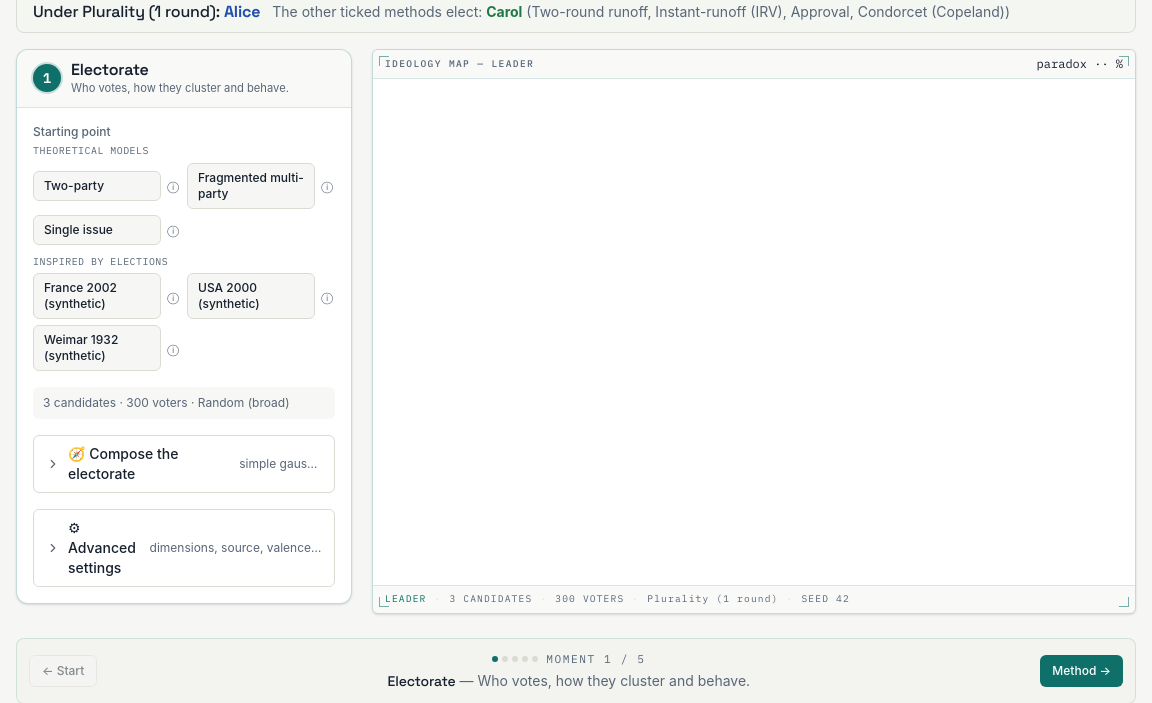
Test: PlaygroundPage (P0 shell) › switching to a composed electorate persists, reveals blocs and a colour legend
(page scrolled)
Step 1. Click the button with test id "module-electorate-toggle" → x=123, y=454, box [34,436,334,492]
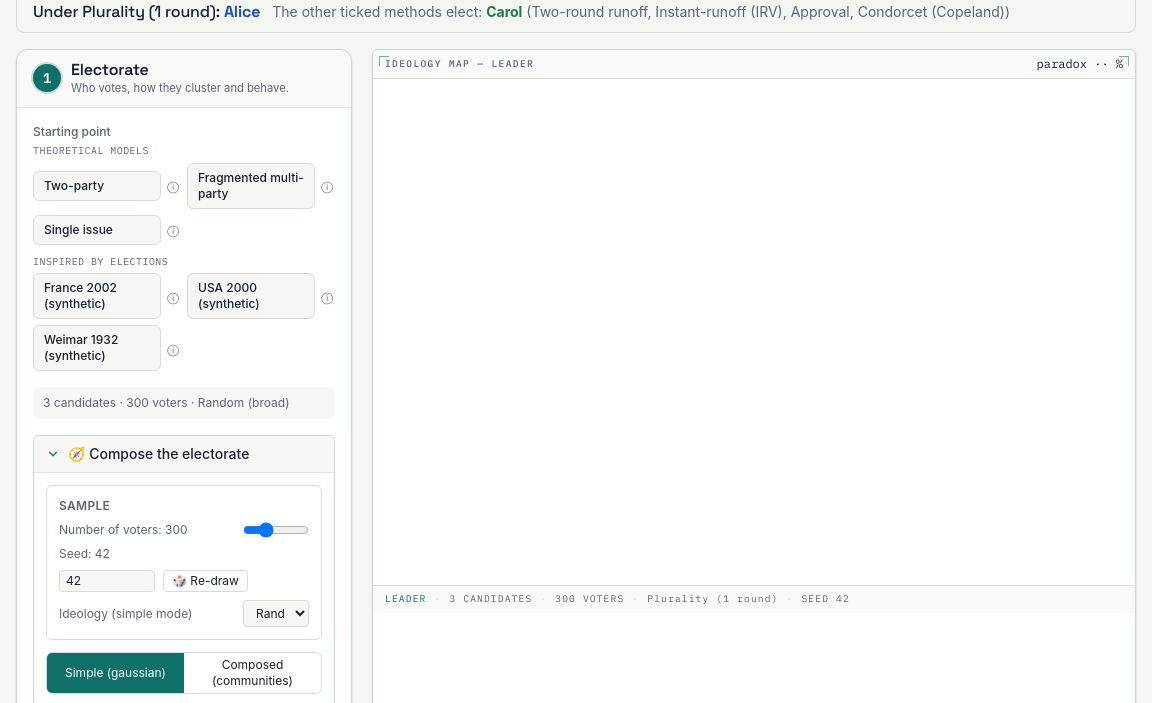
Step 2. Click the button with test id "electorate-mode-composed" → x=252, y=673, box [184,653,321,693]
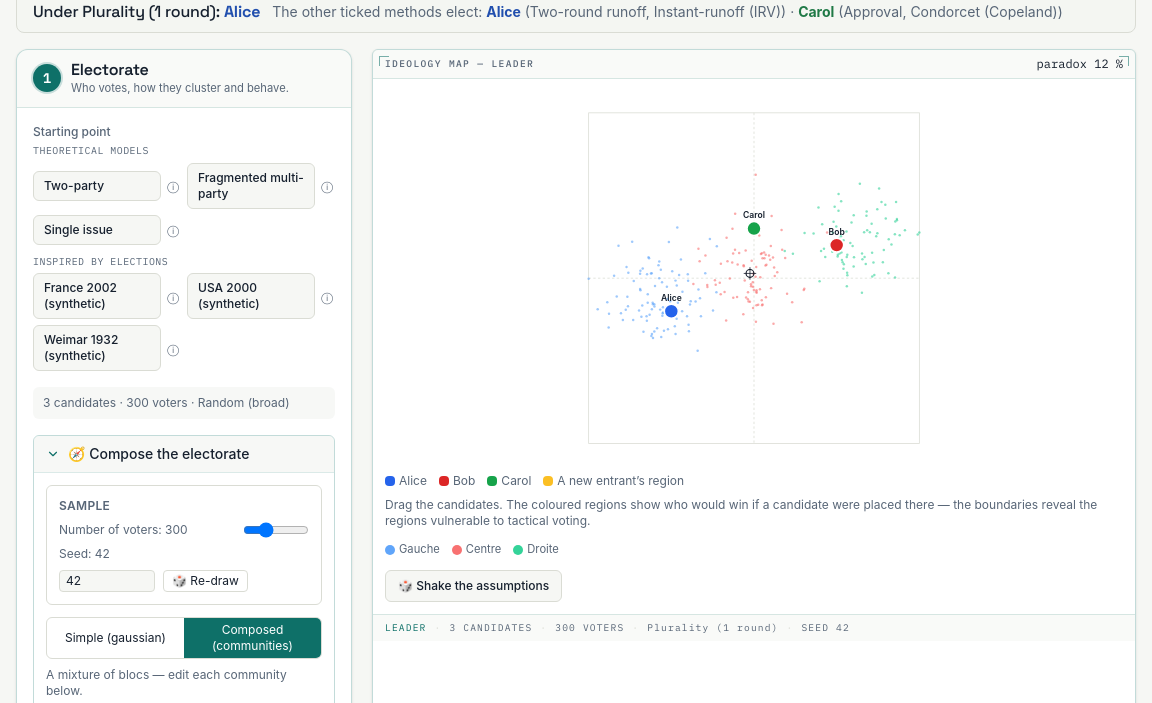
Expected: the element with test id "electorate-legend" is shown, [385,542,559,556]
